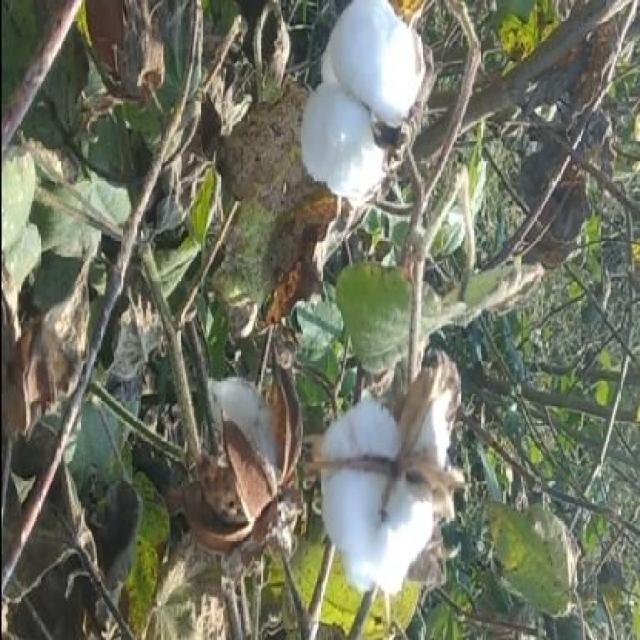cotton_ready: (317, 342, 474, 604), (293, 1, 435, 230)
